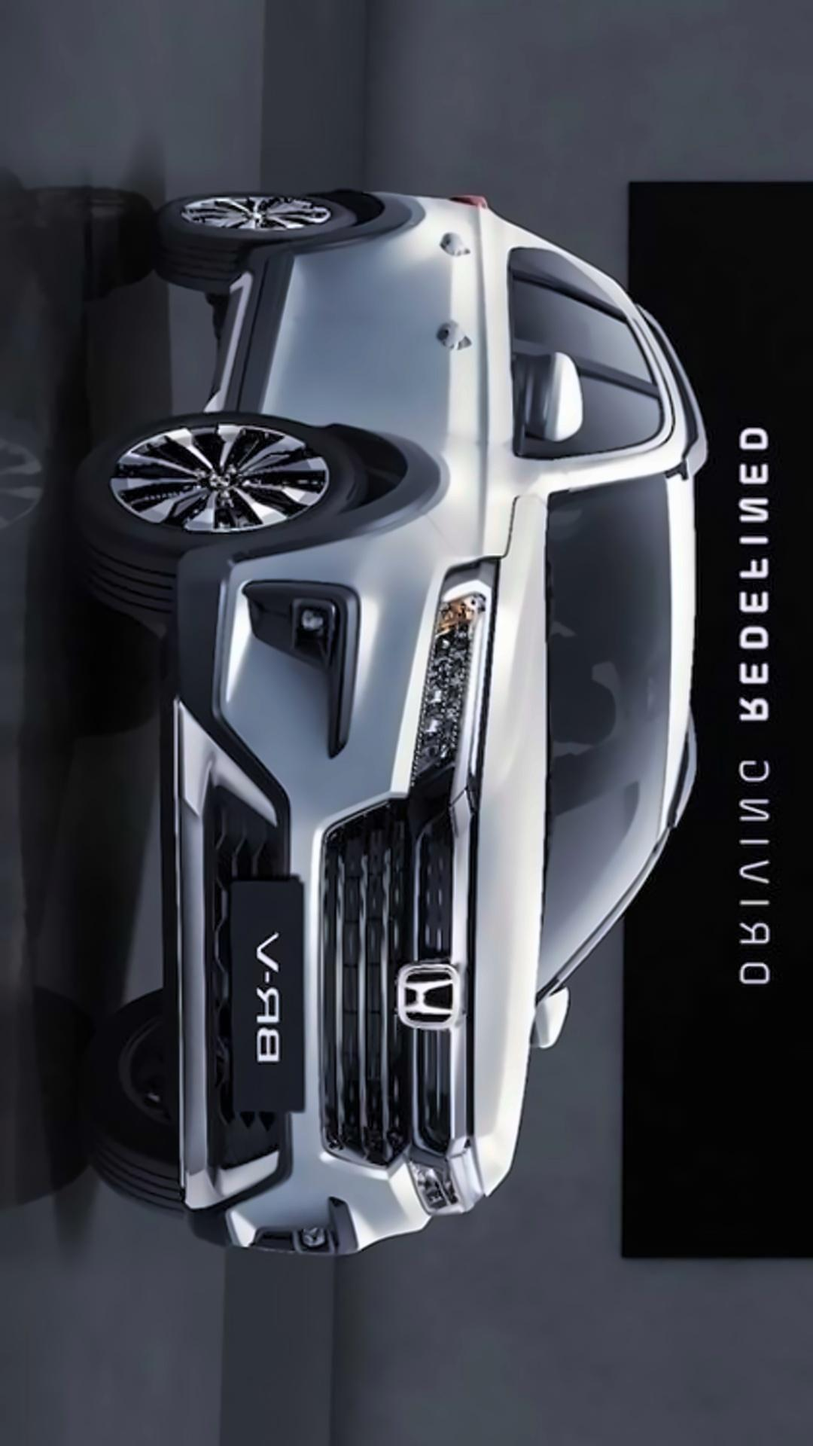Car hood: (462, 485, 549, 1209)
Driver-s door - -F-R-: (229, 317, 681, 445)
Fender - -F-R-: (229, 430, 579, 564)
Front bumper: (148, 525, 435, 1271)
Headlight - -L-: (397, 1133, 490, 1227)
Headlight - -R-: (399, 550, 508, 803)
Passenger-s door - -R-R-: (264, 229, 665, 324)
Rear light - -R-: (414, 176, 508, 224)
Side bumper - -R-: (196, 226, 293, 425)
Side mirror - -L-: (521, 954, 581, 1061)
Side mirror - -R-: (490, 342, 588, 448)
